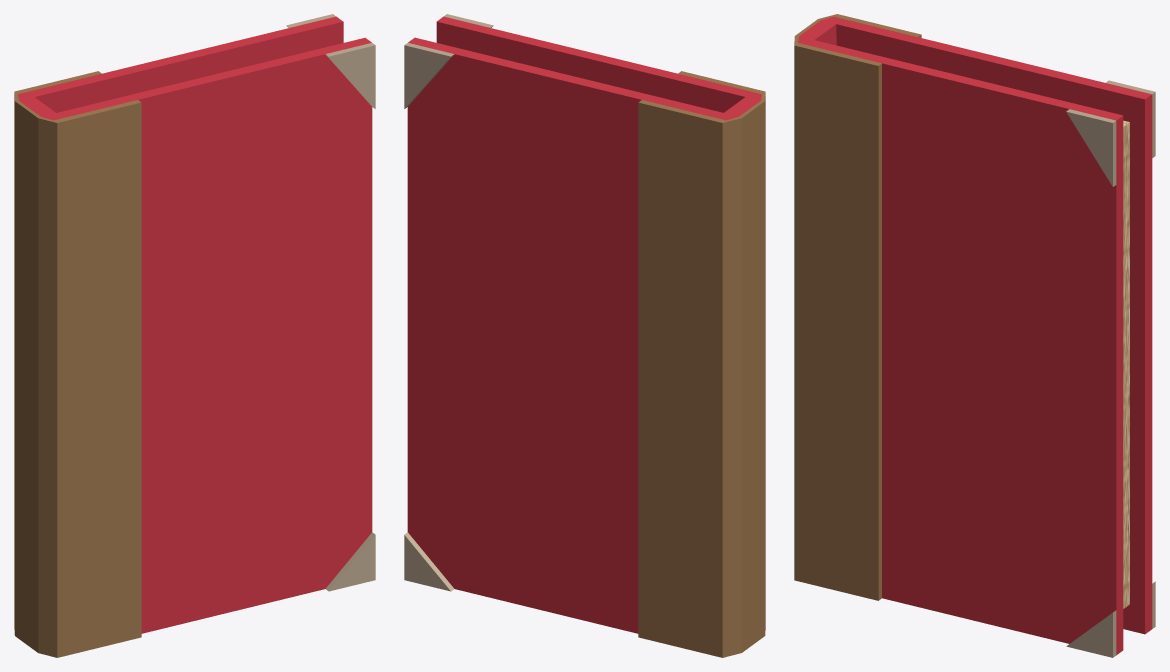
File: Kreckler_Red.fbx
The picture shows the model from 3 angles, left to right: view 1: azimuth 30°, elevation 25°; view 2: azimuth 150°, elevation 25°; view 3: azimuth 330°, elevation 25°; orthographic projection.
Parts seen in each view (by area): view 1: Red; view 2: Red; view 3: Red.
Boxes of the visible parts, <box> form: Red: <box>14,14,375,657</box>; Red: <box>404,14,765,657</box>; Red: <box>794,14,1155,657</box>.
Size of the model in its own units: 2.32 by 3.62 by 0.5282.
